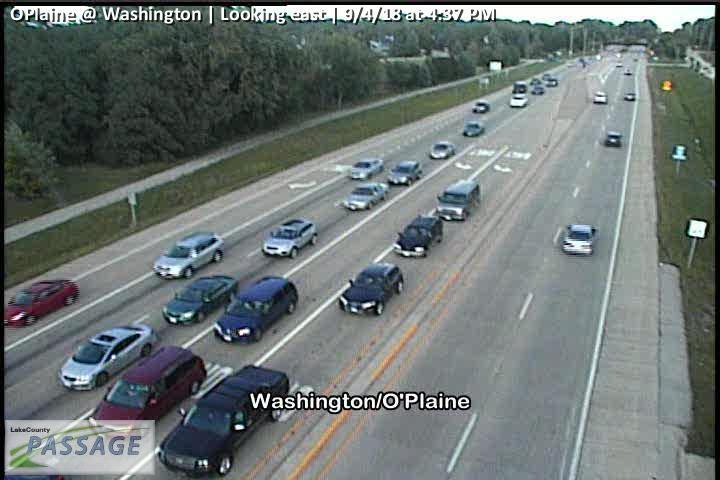SUV: (87, 345, 207, 443), (215, 276, 298, 343), (339, 263, 404, 313), (153, 231, 225, 276), (393, 216, 443, 256), (262, 219, 317, 255), (437, 180, 480, 220), (343, 182, 384, 208), (563, 225, 596, 254), (388, 160, 422, 184), (349, 158, 383, 178), (430, 142, 457, 158), (605, 132, 621, 147), (510, 93, 528, 106), (513, 82, 527, 95)
Sedan: (58, 323, 157, 389), (162, 274, 238, 321), (5, 279, 79, 325), (464, 122, 484, 136), (472, 101, 490, 114), (593, 91, 608, 104), (546, 78, 558, 86), (625, 92, 635, 100), (533, 87, 544, 94), (531, 78, 540, 84), (544, 73, 551, 80)
Truck: (158, 364, 290, 476)
